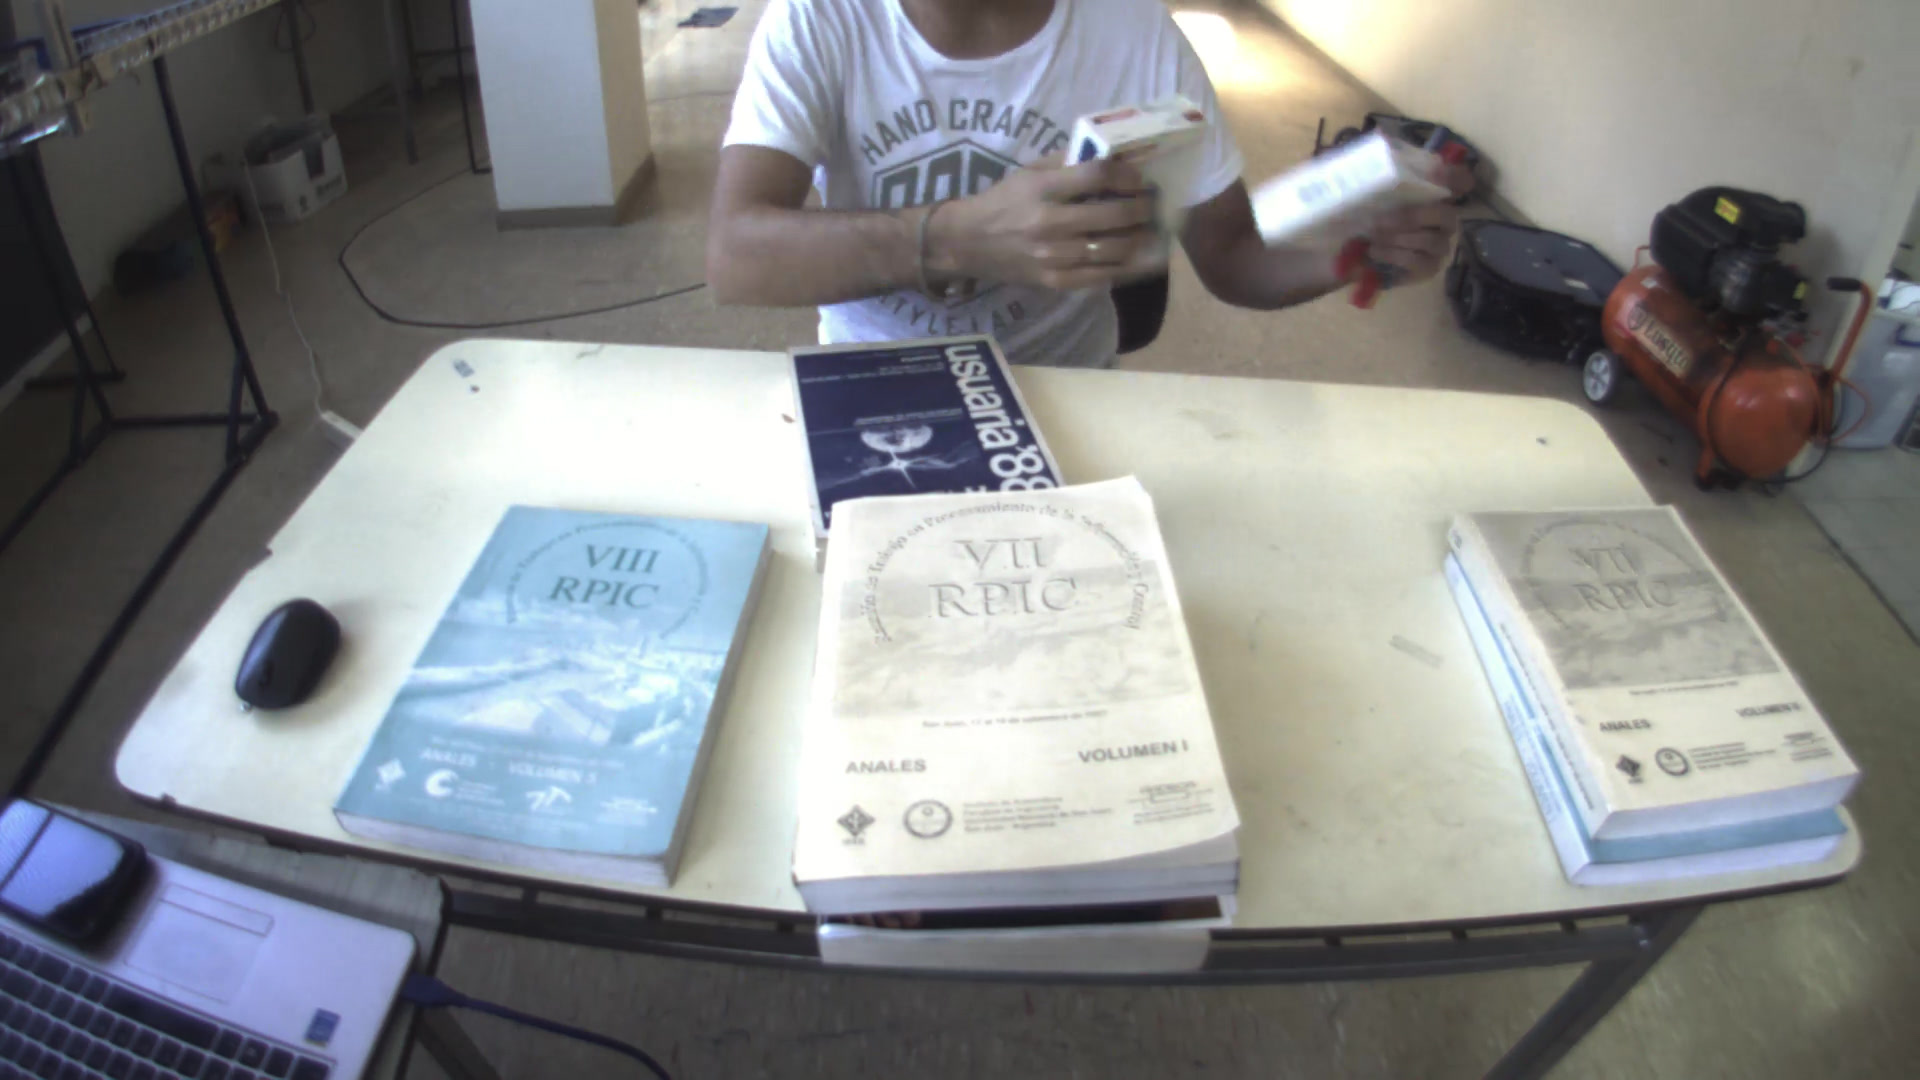hand: (943, 149, 1164, 293), (1316, 166, 1476, 284)
